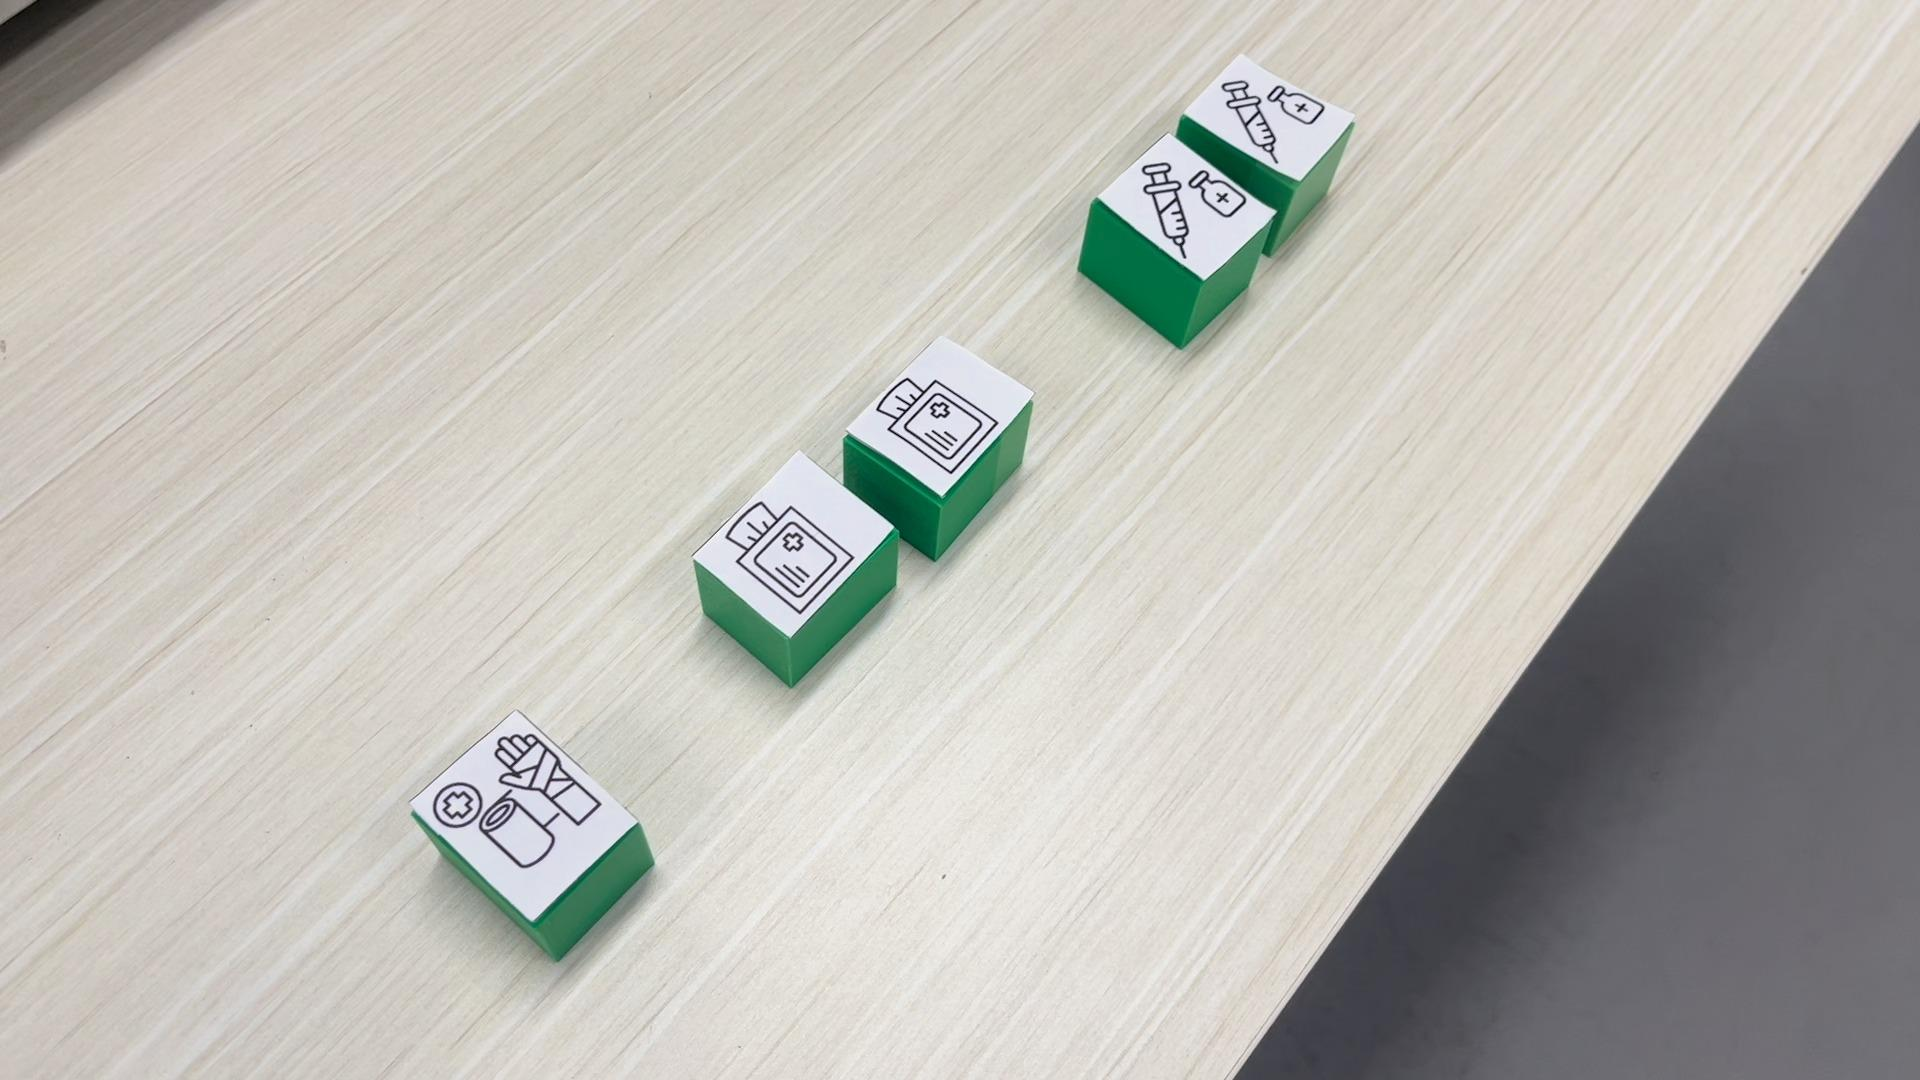Bandages: (401, 708, 653, 961)
Gauze: (694, 450, 897, 688), (839, 334, 1036, 559)
antiseptic cream: (1076, 133, 1280, 348), (1182, 51, 1357, 185)
